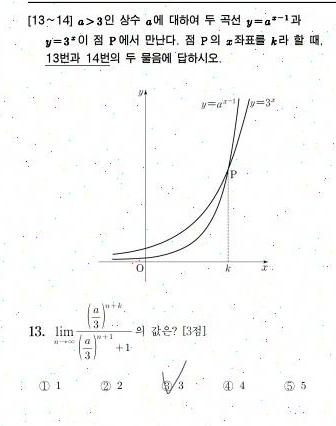choice: (158, 372, 174, 394)
not-choice: (281, 379, 297, 393), (36, 379, 51, 393), (221, 380, 235, 393), (98, 380, 112, 392)
